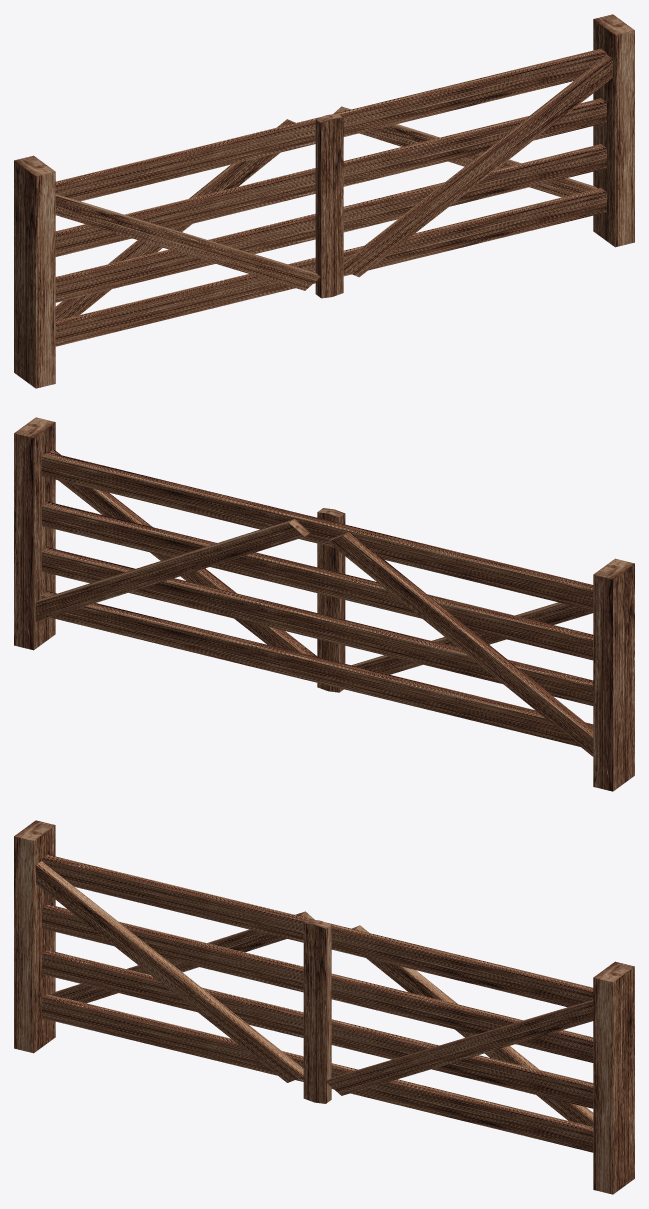
File: portao_fechado.fbx
3 renders of one model, top to bottom at view 1: azimuth 30°, elevation 25°; view 2: azimuth 150°, elevation 25°; view 3: azimuth 330°, elevation 25°, orthographic.
Visible parts, largest first — view 1: Cube; view 2: Cube; view 3: Cube.
Part boxes in pixels (left/top/right/bottom): Cube: left=14, top=14, right=634, bottom=388; Cube: left=14, top=417, right=634, bottom=791; Cube: left=14, top=820, right=634, bottom=1194.
Size of the model in its own units: 10.01 by 3.39 by 0.6345.
